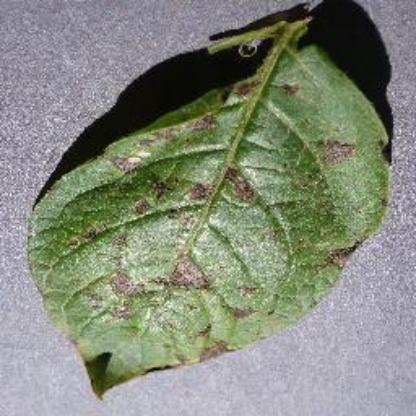Early-Blight: (26, 12, 392, 400)
